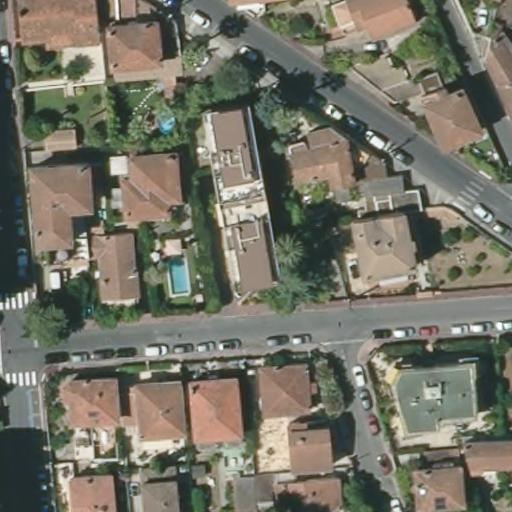pool: (160, 246, 192, 299), (150, 108, 177, 136)
